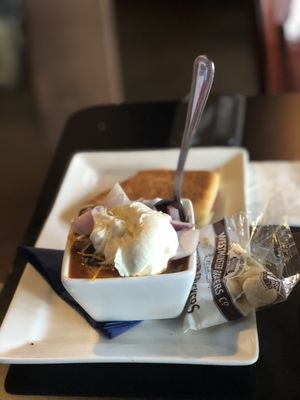sushi: (60, 197, 199, 321)
